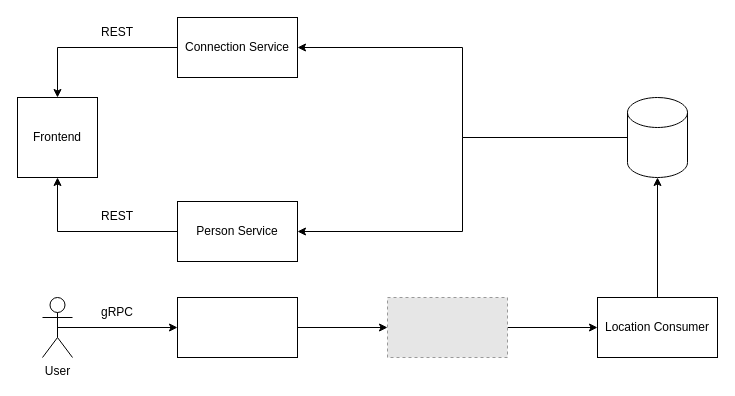
The diagram is 735 pixels wide and 396 high, and some of its shapes have lost their labels. Grey dashed boxes stand in for pictures. Each missing label, with the centre of its shape:
Database: (657,137)
Location Producer: (237,327)
